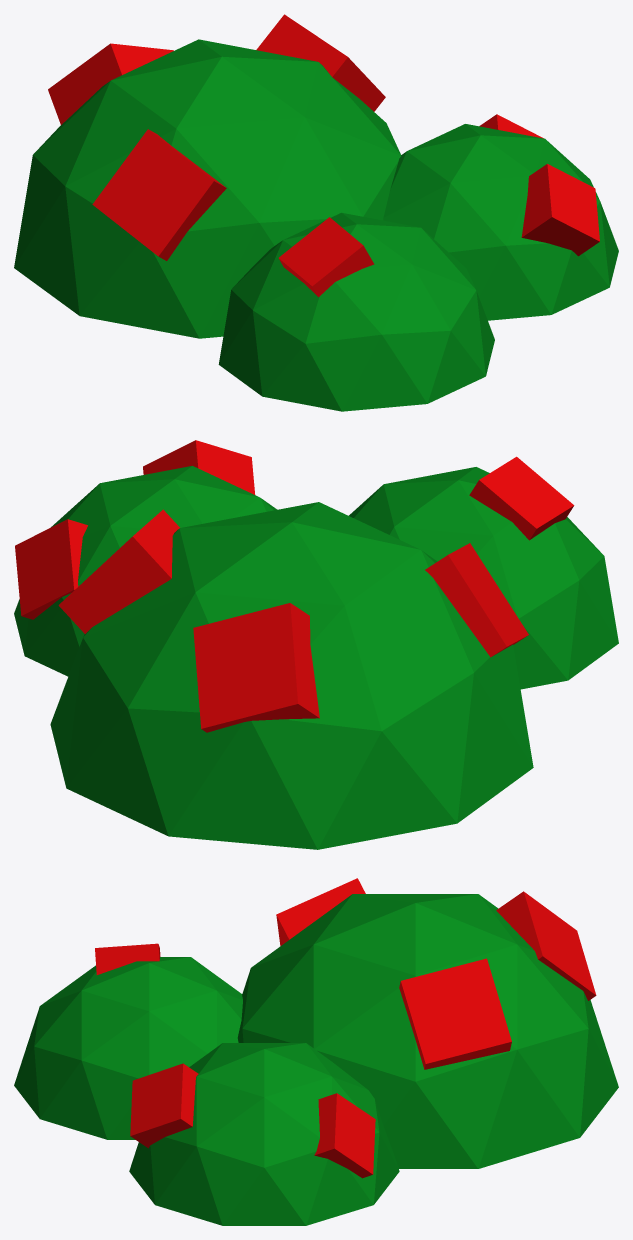
The model's file is viminalis.glb.
3 views of the same model, one above another, from view 1: azimuth 30°, elevation 25°; view 2: azimuth 150°, elevation 25°; view 3: azimuth 270°, elevation 25° (orthographic). The views are drawn at different scales.
Parts seen in each view (by area): view 1: 立方体.002; view 2: 立方体.002; view 3: 立方体.002.
Part boxes in pixels (bbox=[...]): 立方体.002: bbox=[14, 14, 618, 411]; 立方体.002: bbox=[14, 440, 618, 849]; 立方体.002: bbox=[14, 878, 618, 1225].
Bounding box in the file's own units: 2.89 × 1.13 × 3.36.
